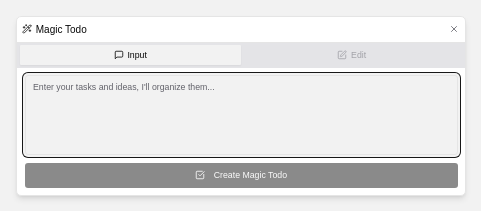
Test: MagicTodo › disables submit button when input is empty
The width and height of the screenshot is (481, 211).
Expected: the button "Create Magic Todo" is disabled, [24,162,458,188]
Type "Buy groceries" into the text box with placeholder "Enter your tasks and ideas, I'll organize them..." at (241, 115), box [24,75,458,155]
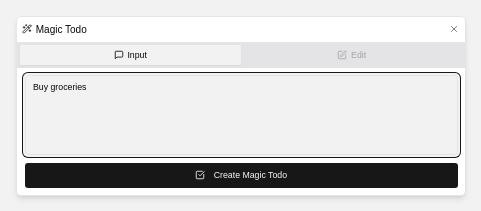
Expected: the button "Create Magic Todo" is enabled, [24,162,458,188]
